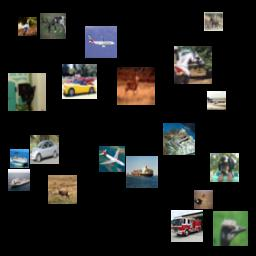airplane: (85, 26, 117, 58), (99, 146, 125, 172), (207, 91, 226, 110)
automobile: (62, 64, 97, 99), (30, 135, 59, 164)
bird: (213, 211, 248, 246), (18, 17, 37, 36), (194, 190, 213, 209)
cat: (8, 73, 46, 111)
deer: (117, 67, 155, 105), (48, 175, 77, 204), (40, 13, 66, 39)
dog: (210, 153, 239, 182)
frog: (163, 123, 195, 155)
ship: (126, 156, 158, 188), (8, 169, 30, 191), (10, 149, 29, 168)
truck: (171, 210, 203, 242)
